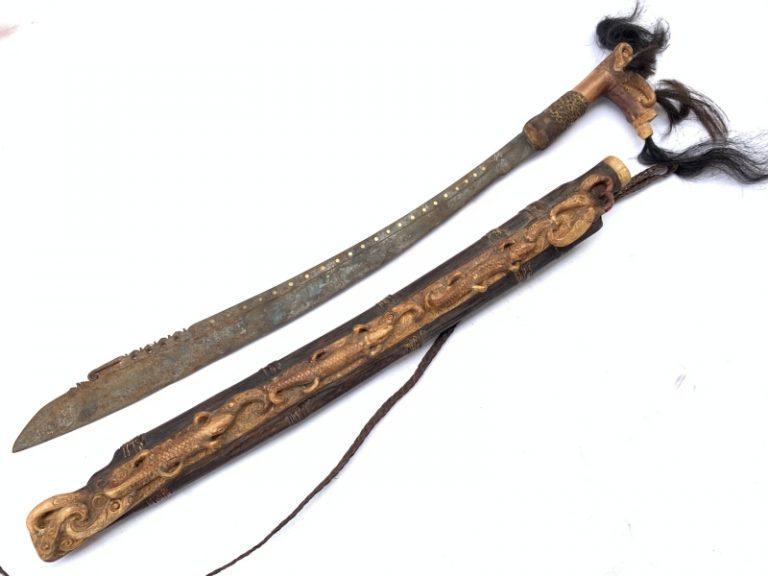facao: (19, 13, 680, 475), (34, 176, 653, 548)
